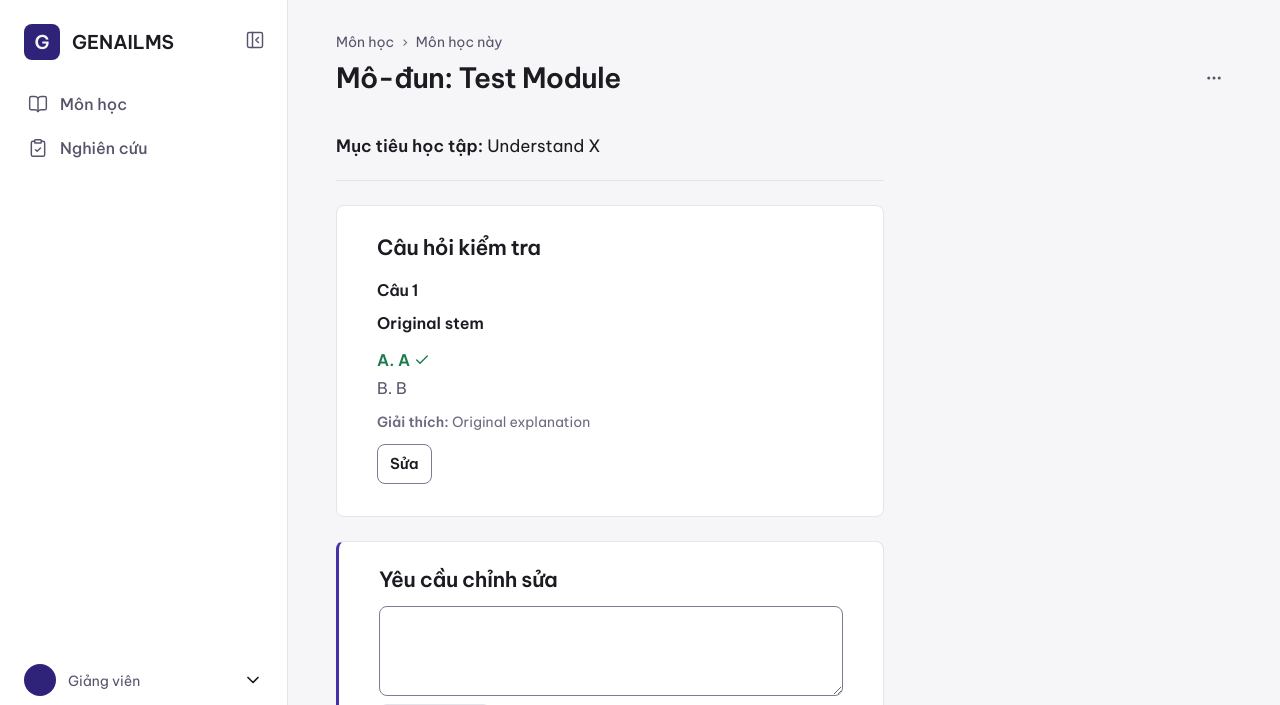
Test: edits and saves a quiz question
This screenshot has width=1280, height=705.
Click the button "Sửa". click: (404, 464)
box: [377,444,432,484]
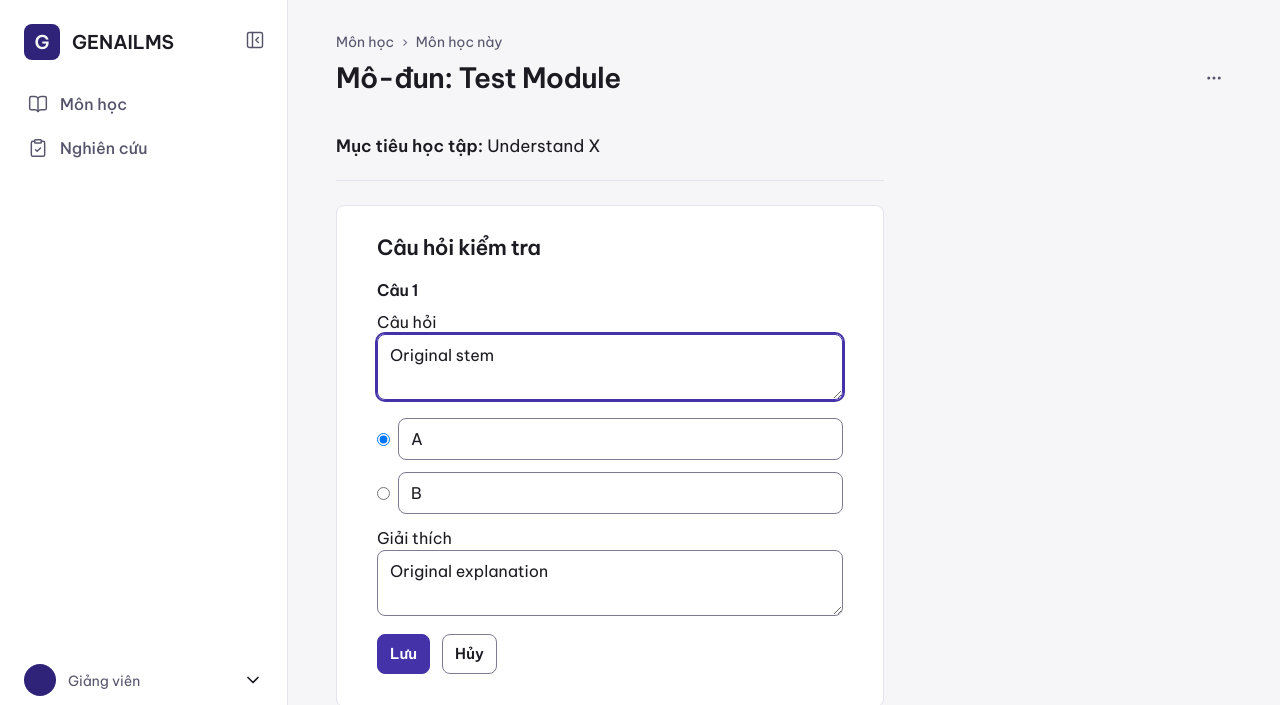
Replace the text in the text box labelled "Câu hỏi" with "Edited stem". click: (610, 367)
box: [377,334,843,400]
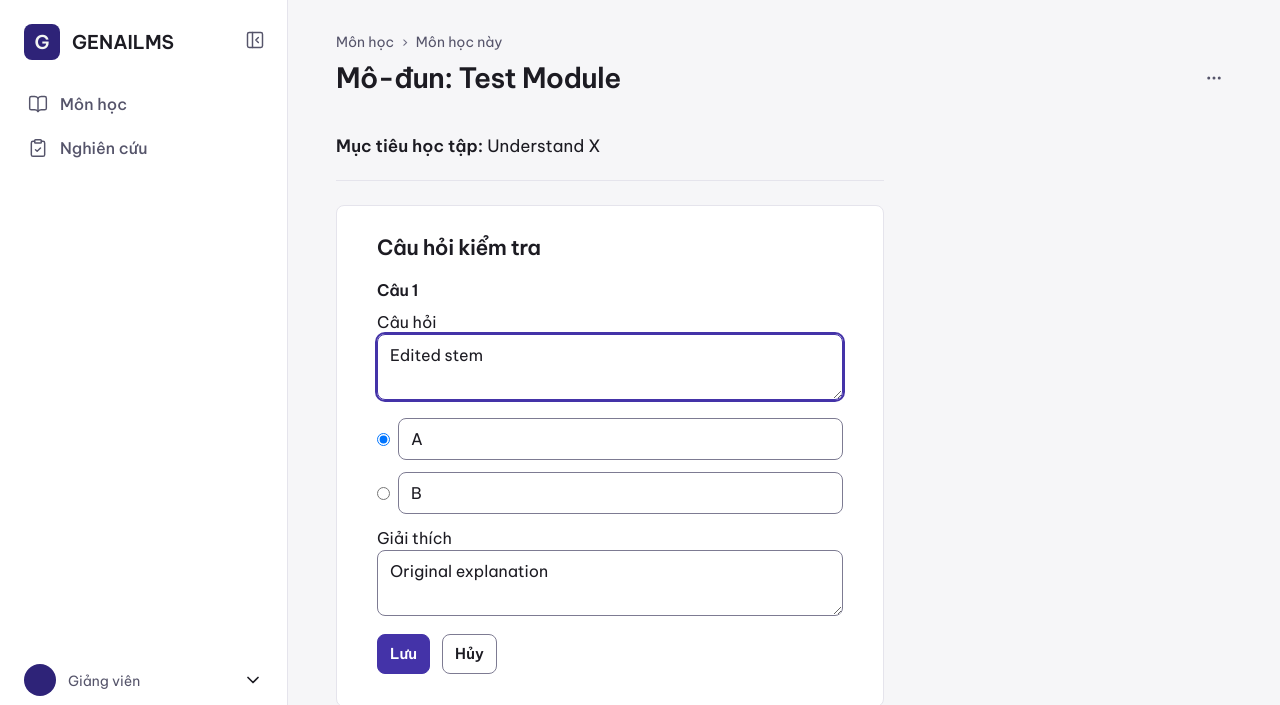
Replace the text in the field named "Phương án B" with "Edited B". click: (620, 493)
box: [398,472,843,514]
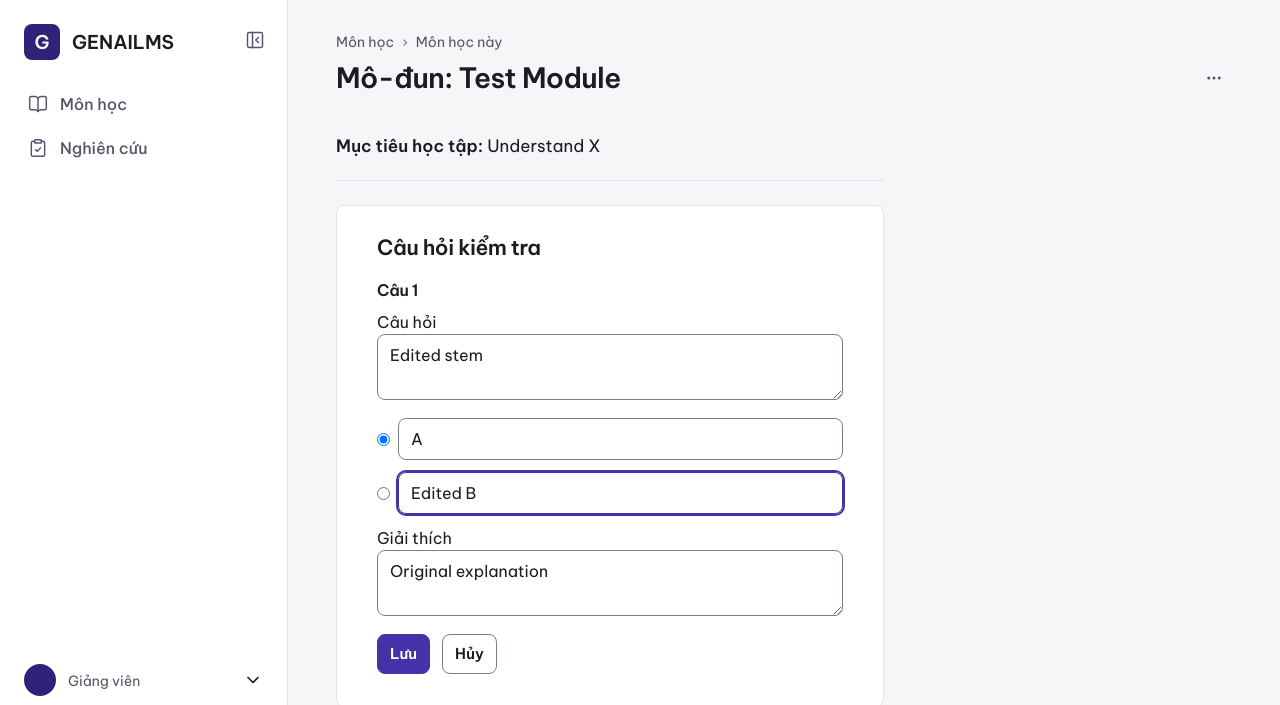
Click the radio button named "Đáp án B". click: (384, 493)
box: [377,486,390,500]
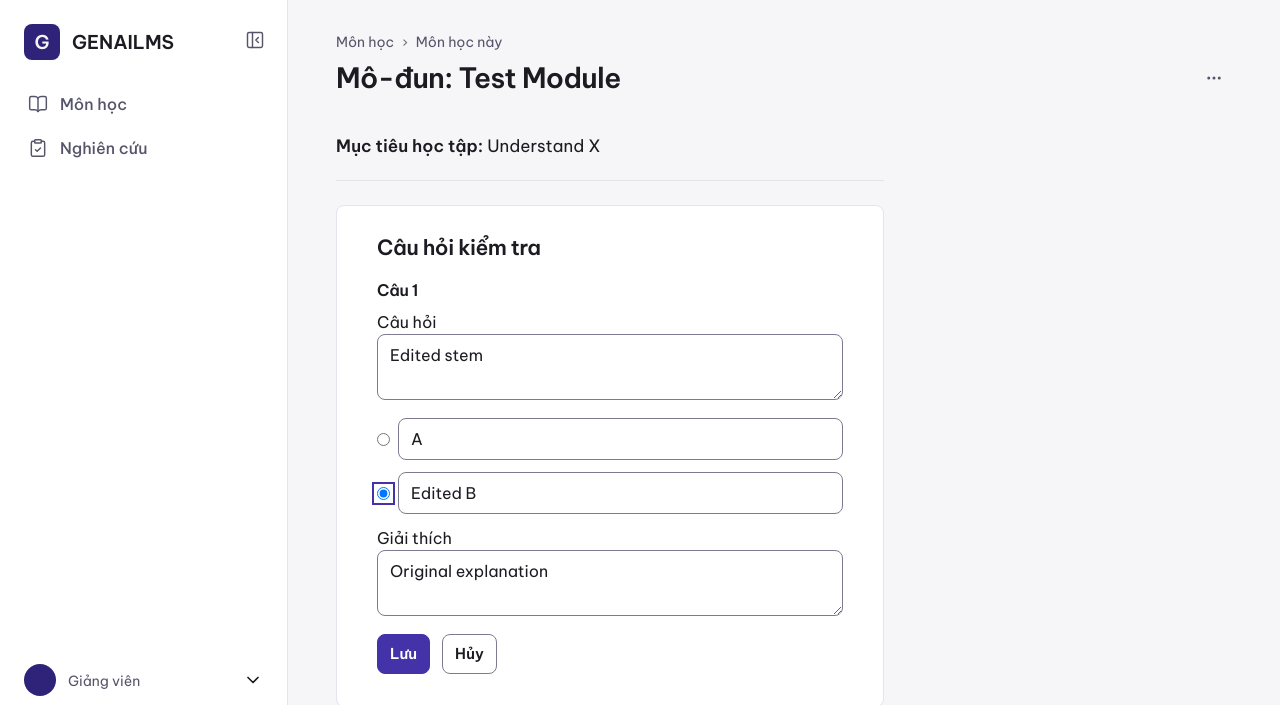
Replace the text in the text box labelled "Giải thích" with "Edited explanation". click: (610, 583)
box: [377,550,843,616]
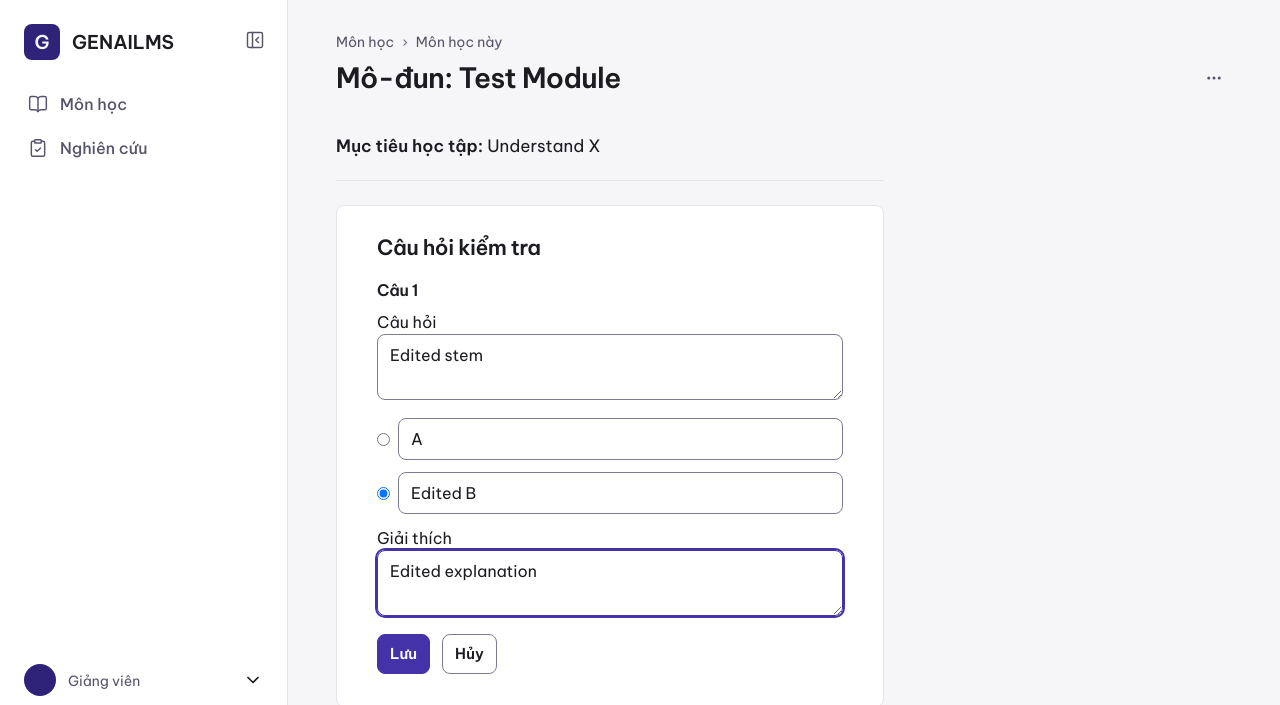
Click the button "Lưu". click: (404, 654)
box: [377,634,430,674]
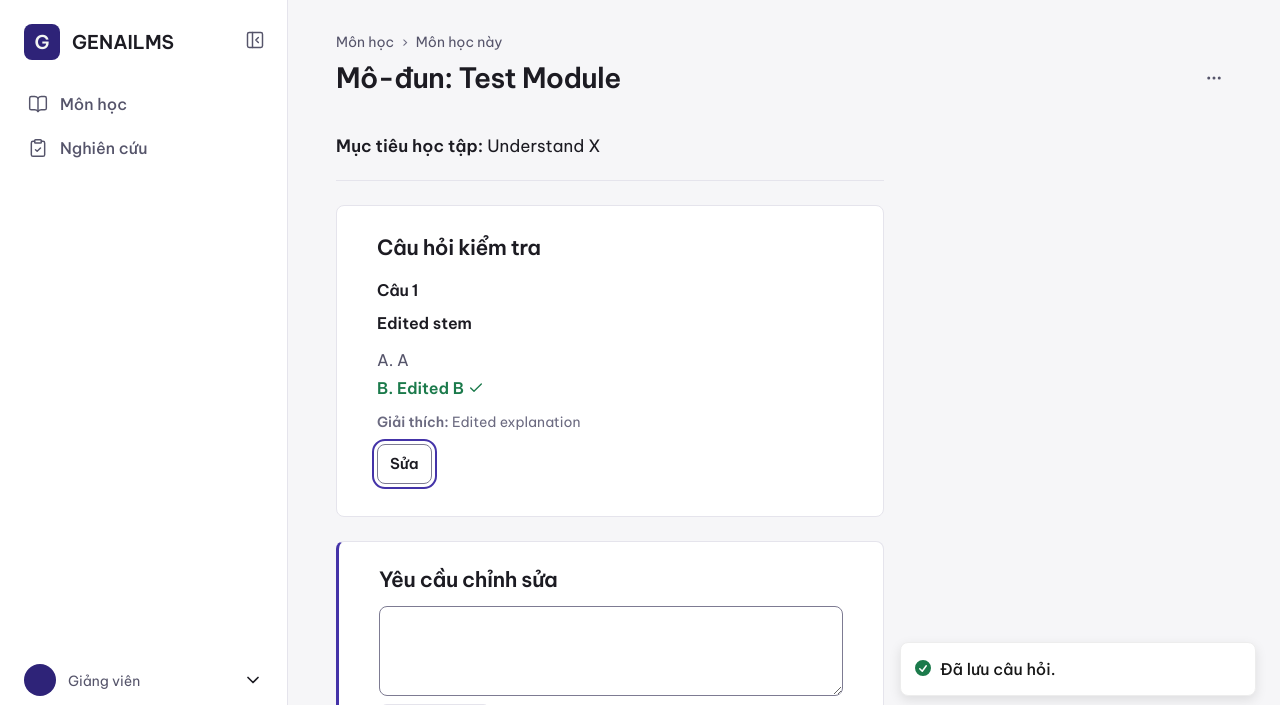
Expected: the text "Edited stem" is shown, [377,313,472,333]
